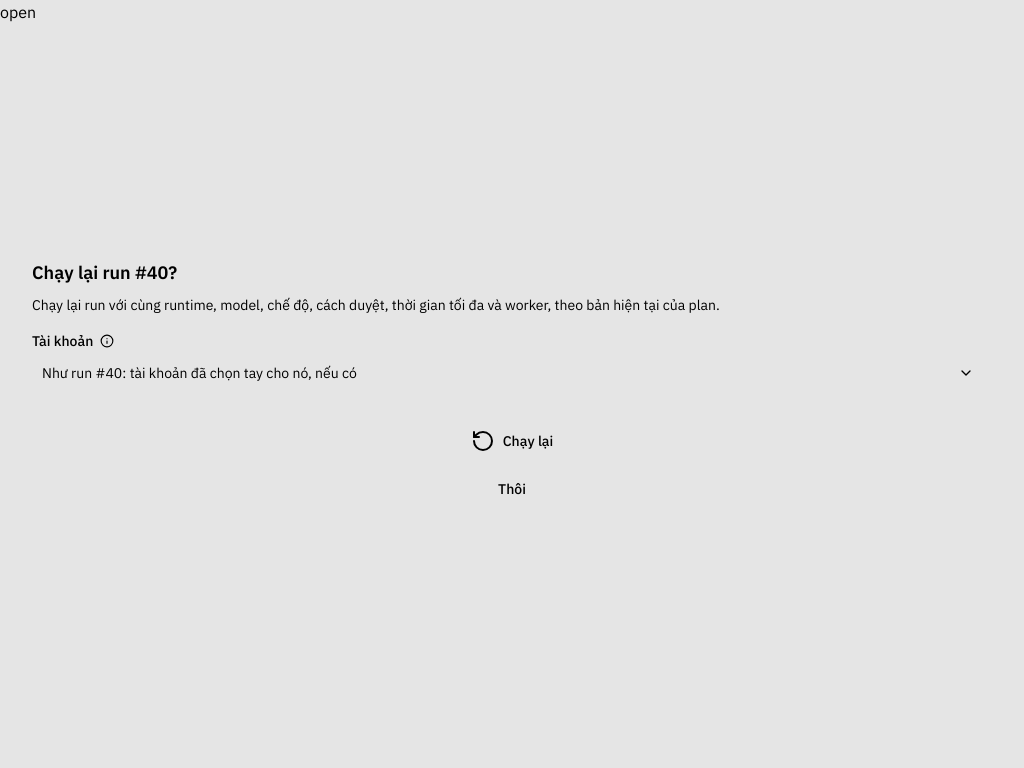
Test case: RerunDialog › keeps the run's account by default and sends no body
This screenshot has width=1024, height=768.
Check: the dropdown with test id "dispatch-account-select" shows "Như run #40: tài khoản đã chọn tay cho nó, nếu có", box [32,357,992,389]
Click the button with test id "rerun-confirm": point(512, 441) [32,421,992,461]
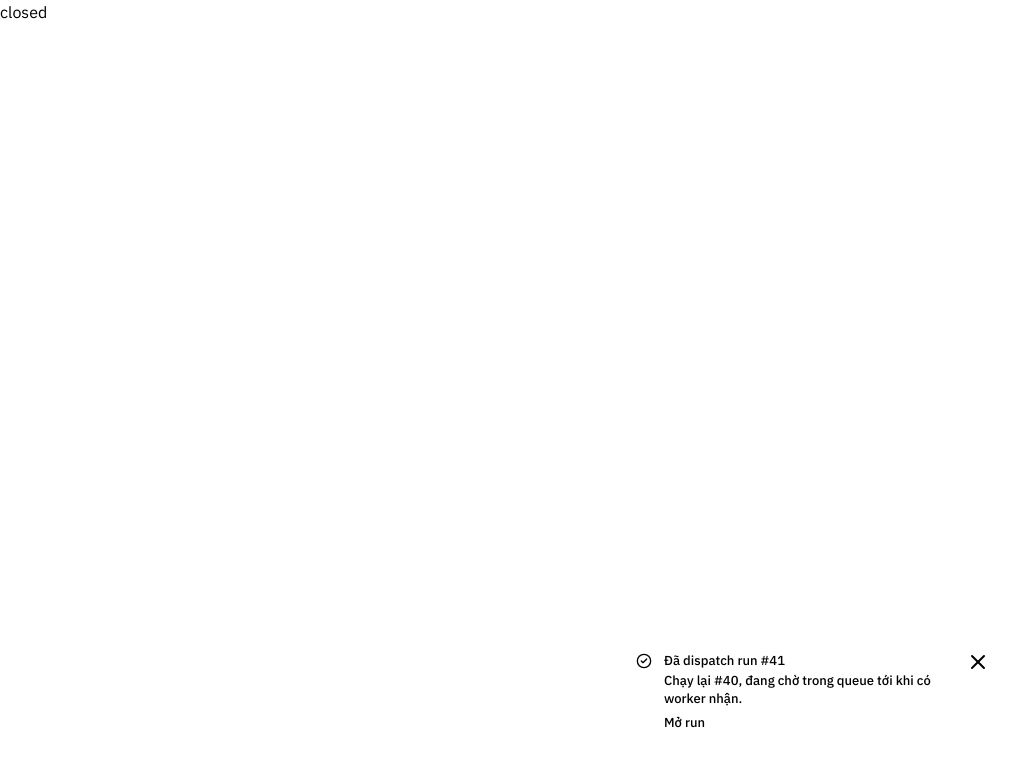
Check: the text with test id "open-state" reads "closed", box [0,2,47,22]
